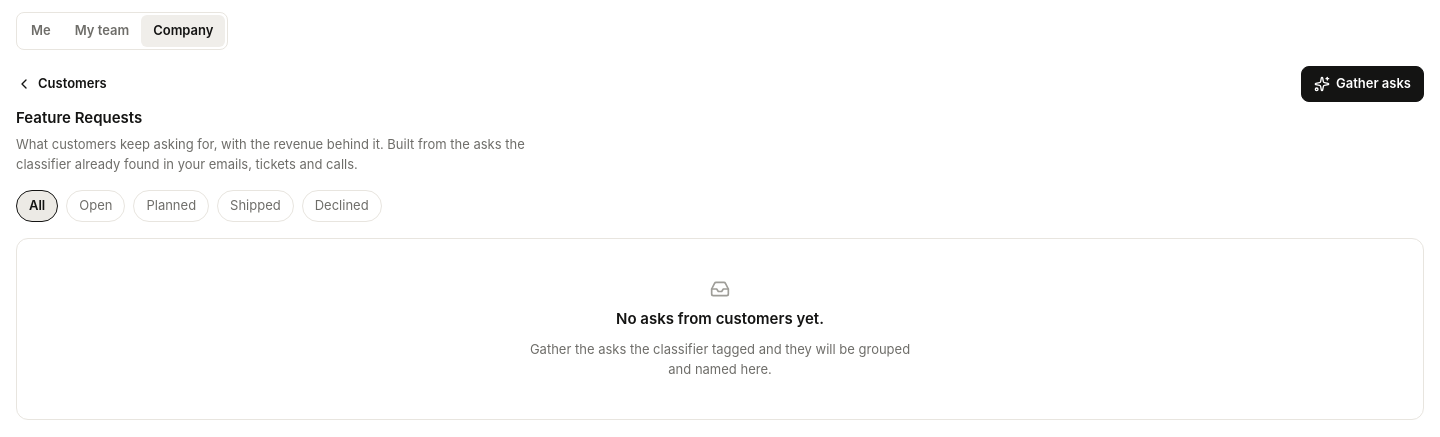
Test: FeatureRequestsPage › says what a stopped gather still filed, and shows it
The width and height of the screenshot is (1440, 437).
Expected: the text "No asks from customers yet." is shown, [616,307,824,331]
Click the button "Gather asks" at (1362, 84), box [1301,66,1424,102]
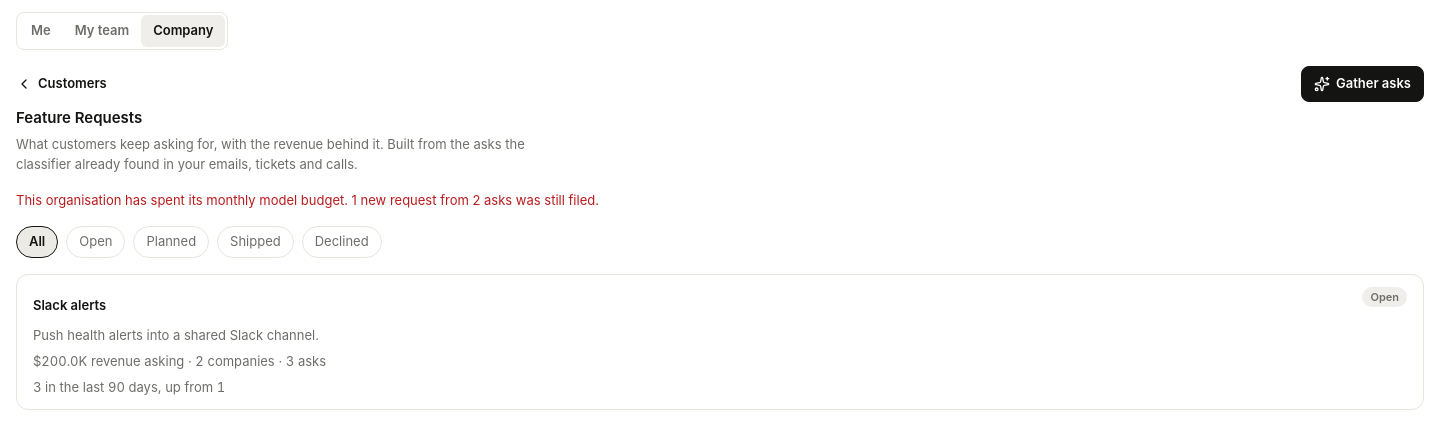
Now the message shows "1 new request from 2 asks was still filed", box [16,192,599,208]
Now the button "Slack alerts" is shown, box [33,287,319,323]
